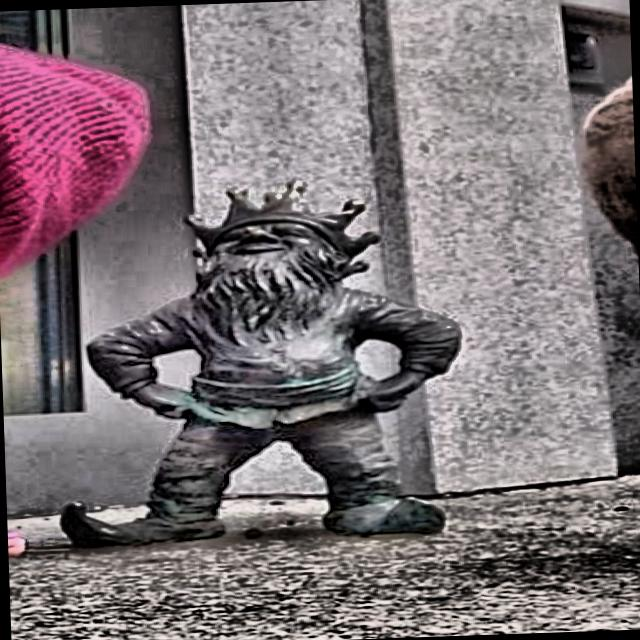Koronus: (59, 179, 461, 547)
